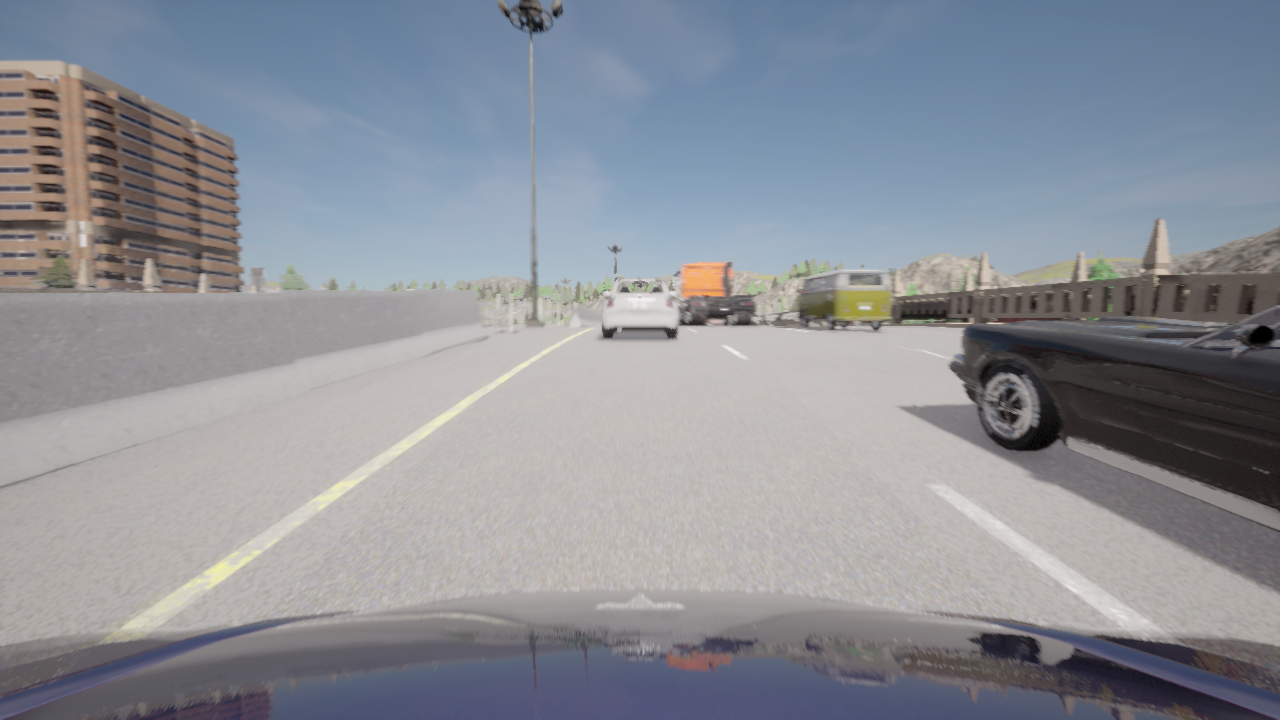cyclist: (0, 588, 1279, 719), (949, 304, 1279, 532), (797, 269, 890, 330), (672, 261, 755, 326), (601, 279, 678, 339), (707, 320, 723, 326), (704, 320, 707, 326)
